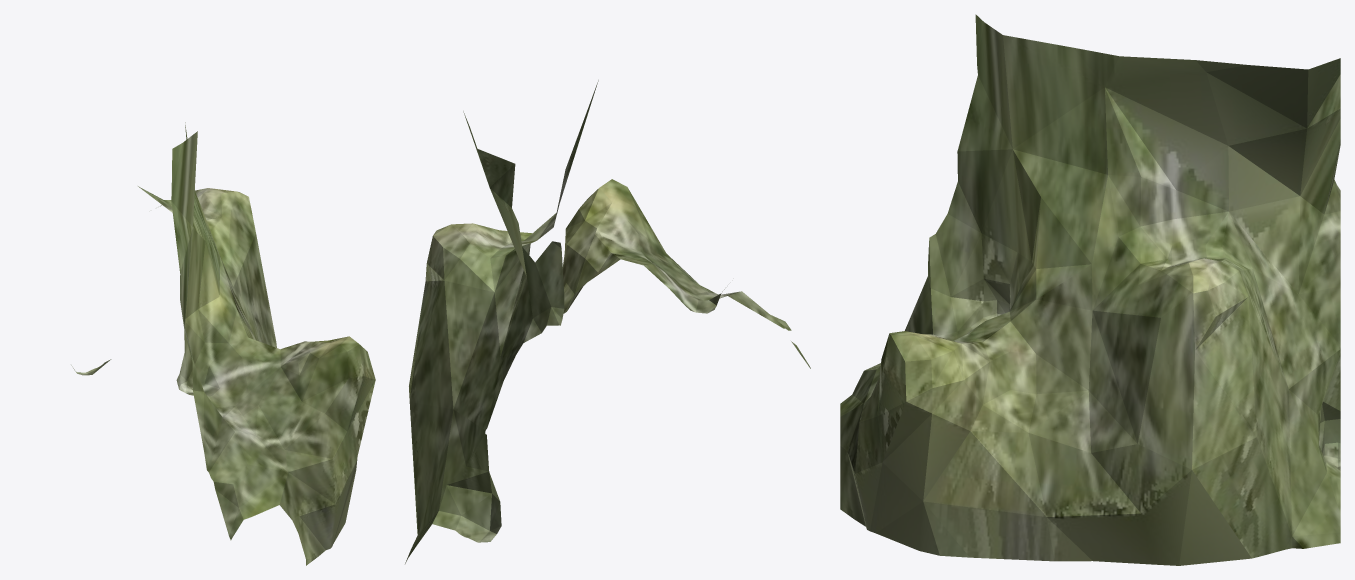
3 views of the same model, side by side, from view 1: azimuth 30°, elevation 25°; view 2: azimuth 150°, elevation 25°; view 3: azimuth 270°, elevation 25° (orthographic). The views are drawn at different scales.
Size of the model in its own units: 1.54 by 2.95 by 2.95.
Materials: 3 (3 with a texture image).
